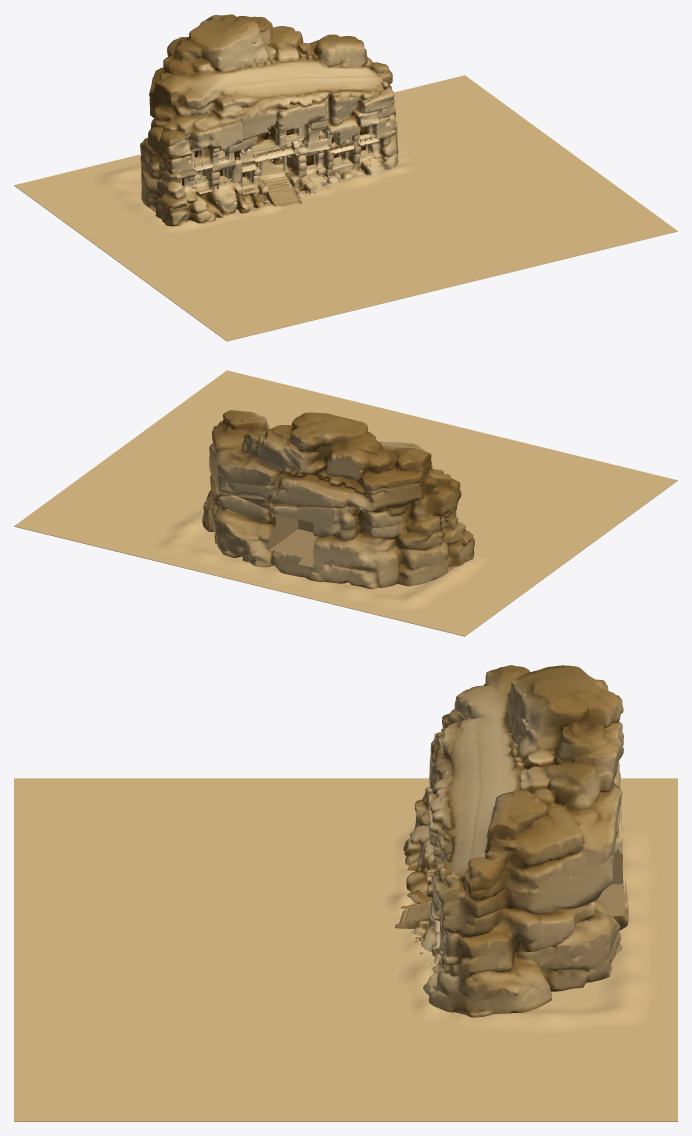
The model's file is exterior.glb.
3 views of the same model, one above another, from view 1: azimuth 30°, elevation 25°; view 2: azimuth 150°, elevation 25°; view 3: azimuth 270°, elevation 25° (orthographic). The views are drawn at different scales.
Visible parts, largest first — view 1: export-regional-sand-base.001, export-user-cliff-facade; view 2: export-regional-sand-base.001, export-user-cliff-facade; view 3: export-regional-sand-base.001, export-user-cliff-facade.
Part boxes in pixels (box(x1,y1,x2,y2)): export-regional-sand-base.001: box(14, 75, 677, 341); export-user-cliff-facade: box(140, 14, 398, 226); export-regional-sand-base.001: box(14, 370, 677, 636); export-user-cliff-facade: box(202, 410, 474, 589); export-regional-sand-base.001: box(14, 778, 677, 1121); export-user-cliff-facade: box(395, 665, 628, 1017).
Bounding box in the file's own units: 220 × 68.23 × 180.
2 materials, 1 textured.
